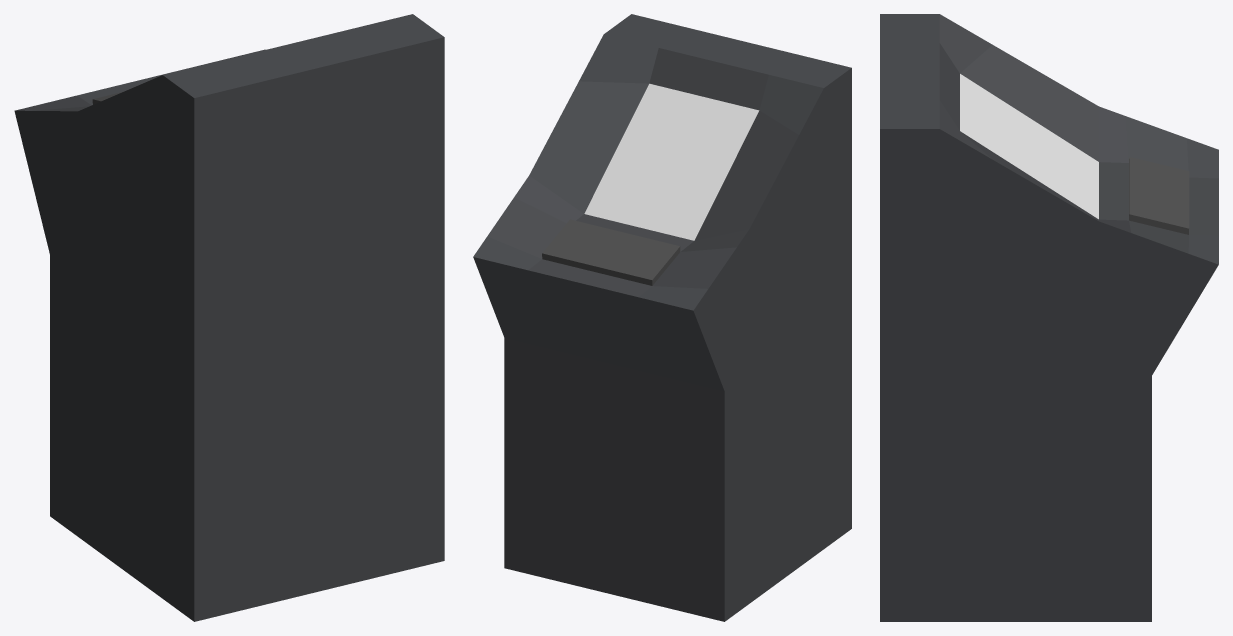
Rendered from Terminal.fbx.
3 views of the same model, side by side, from view 1: azimuth 30°, elevation 25°; view 2: azimuth 150°, elevation 25°; view 3: azimuth 270°, elevation 25° (orthographic). The views are drawn at different scales.
Parts seen in each view (by area): view 1: Terminal.002; view 2: Terminal.002; view 3: Terminal.002.
Part boxes in pixels (x1=…): Terminal.002: x1=14, y1=14, x2=444, y2=621; Terminal.002: x1=473, y1=14, x2=851, y2=621; Terminal.002: x1=880, y1=14, x2=1218, y2=621.
Size of the model in its own units: 80 by 99.64 by 160.
3 materials, 1 textured.
